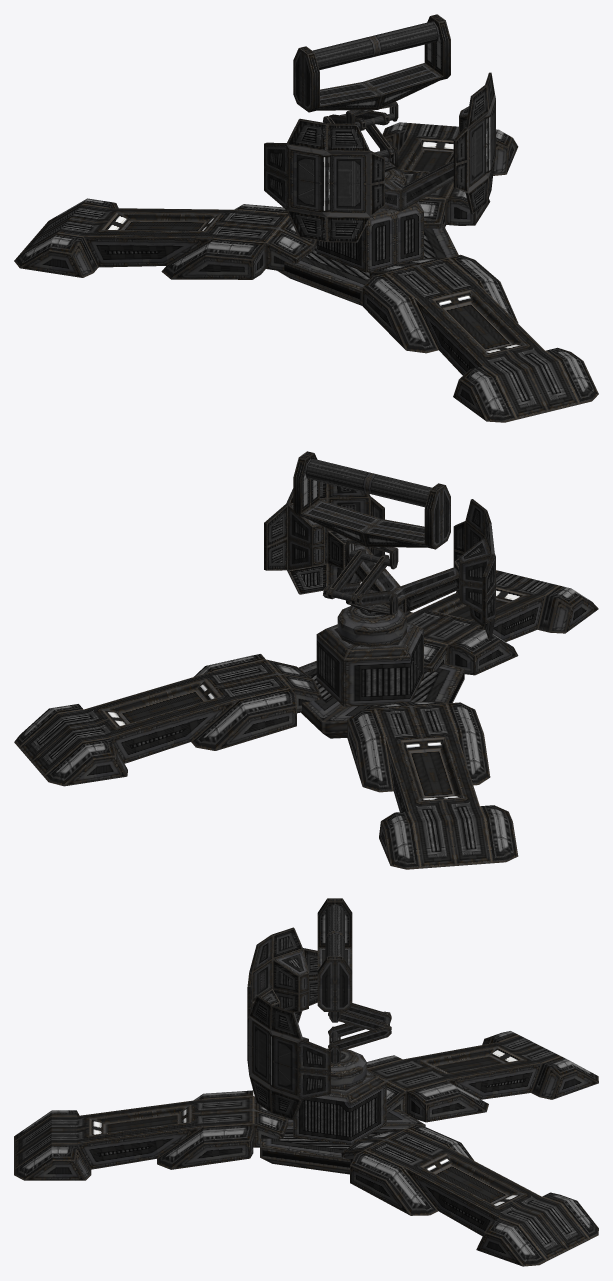
The model's file is UTAW_TurretWholeBase01.FBX.
3 views of the same model, one above another, from view 1: azimuth 30°, elevation 25°; view 2: azimuth 150°, elevation 25°; view 3: azimuth 270°, elevation 25° (orthographic). The views are drawn at different scales.
Parts seen in each view (by area): view 1: TurretBase, RotationYSection, RotationSection; view 2: TurretBase, RotationYSection, RotationSection; view 3: TurretBase, RotationYSection, RotationSection.
Part boxes in pixels (bbox=[...]): TurretBase: bbox=[14, 122, 598, 422]; RotationYSection: bbox=[264, 14, 495, 242]; RotationSection: bbox=[312, 21, 439, 70]; TurretBase: bbox=[14, 570, 598, 869]; RotationYSection: bbox=[264, 451, 495, 647]; RotationSection: bbox=[305, 459, 431, 507]; TurretBase: bbox=[14, 1031, 598, 1266]; RotationYSection: bbox=[247, 898, 391, 1120]; RotationSection: bbox=[325, 904, 344, 959].
Bounding box in the file's own units: 399 × 190 × 445.
